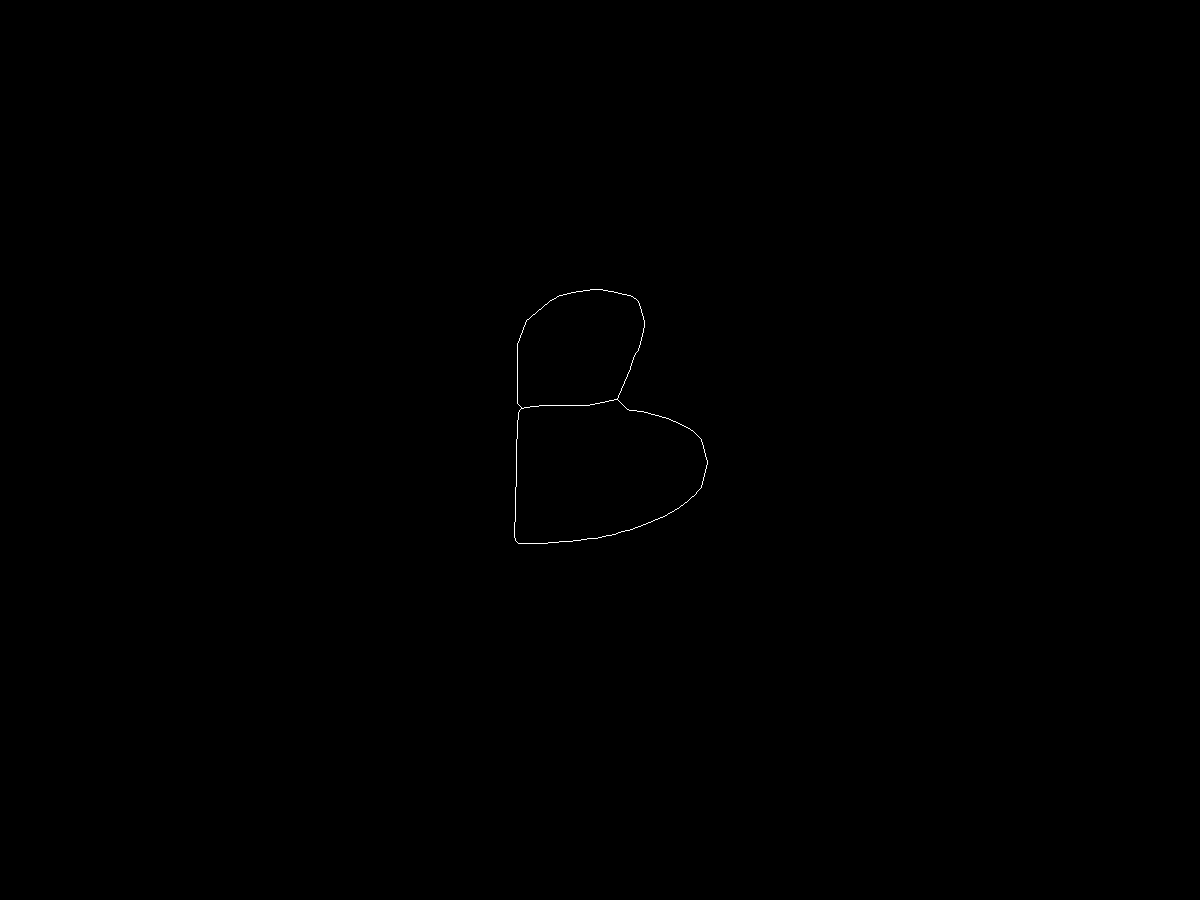dian1: (518, 310, 534, 326)
dian2: (511, 404, 525, 418)
dian3: (507, 532, 527, 552)
dian4: (611, 391, 631, 411)
